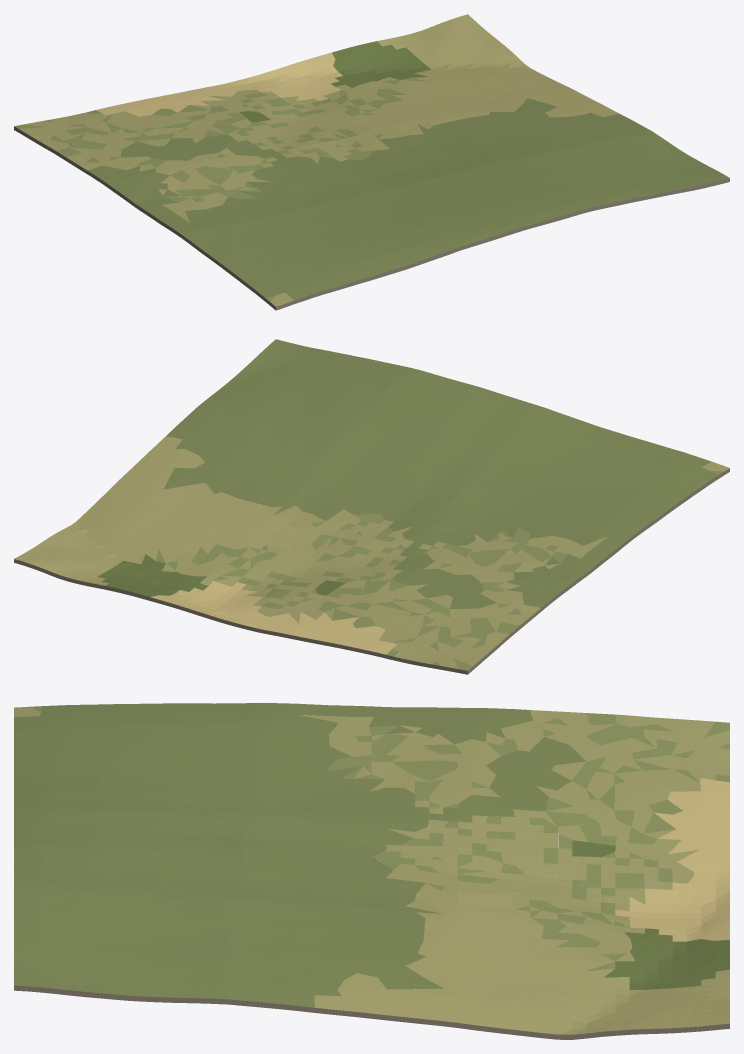
Rendered from parca_+3_-3-uzak.glb.
3 renders of one model, top to bottom at view 1: azimuth 30°, elevation 25°; view 2: azimuth 150°, elevation 25°; view 3: azimuth 270°, elevation 25°, orthographic. The views are drawn at different scales.
Visible parts, largest first — view 1: parca_+3_-3_arazi_uzak; view 2: parca_+3_-3_arazi_uzak; view 3: parca_+3_-3_arazi_uzak.
Part boxes in pixels (bbox=[...]): parca_+3_-3_arazi_uzak: bbox=[14, 14, 729, 310]; parca_+3_-3_arazi_uzak: bbox=[14, 339, 729, 674]; parca_+3_-3_arazi_uzak: bbox=[14, 703, 729, 1039].
Size of the model in its own units: 1000 by 97.3 by 1000.
